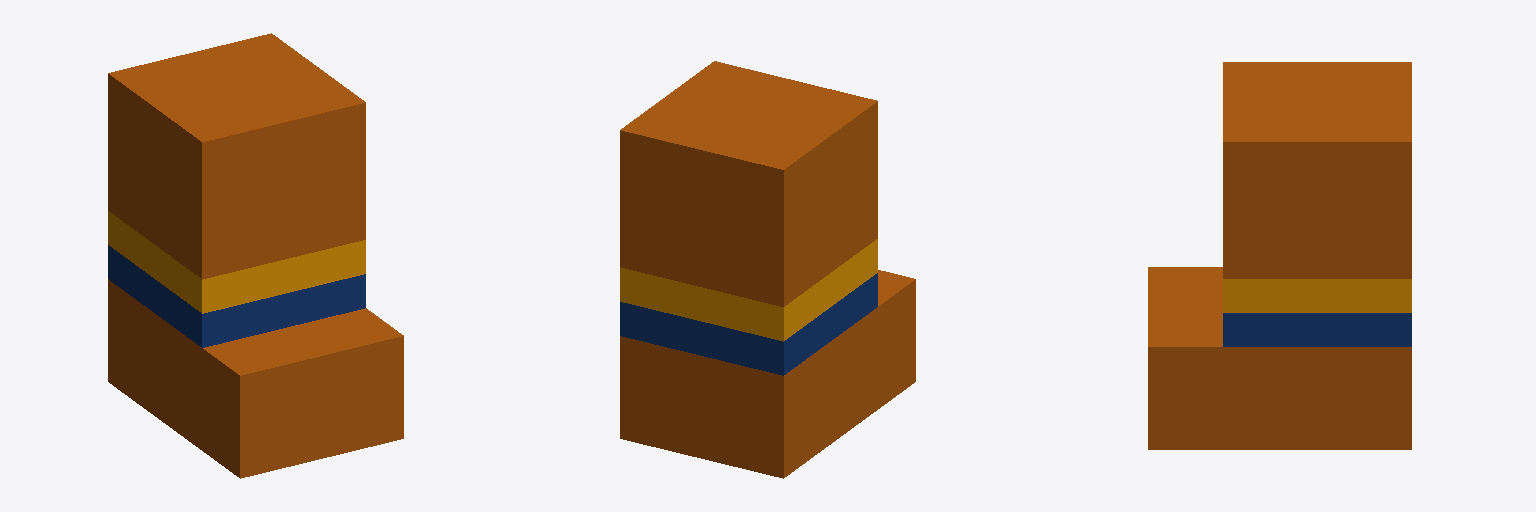
3 renders of one model, left to right at view 1: azimuth 30°, elevation 25°; view 2: azimuth 150°, elevation 25°; view 3: azimuth 270°, elevation 25°, orthographic.
Parts seen in each view (by area): view 1: object 1; view 2: object 1; view 3: object 1.
Part boxes in pixels (left/top/right/bottom): object 1: left=108, top=33, right=403, bottom=478; object 1: left=620, top=61, right=915, bottom=478; object 1: left=1148, top=62, right=1411, bottom=449.
Size of the model in its own units: 0.5 by 0.9 by 0.7.
Materials: 1 (1 with a texture image).